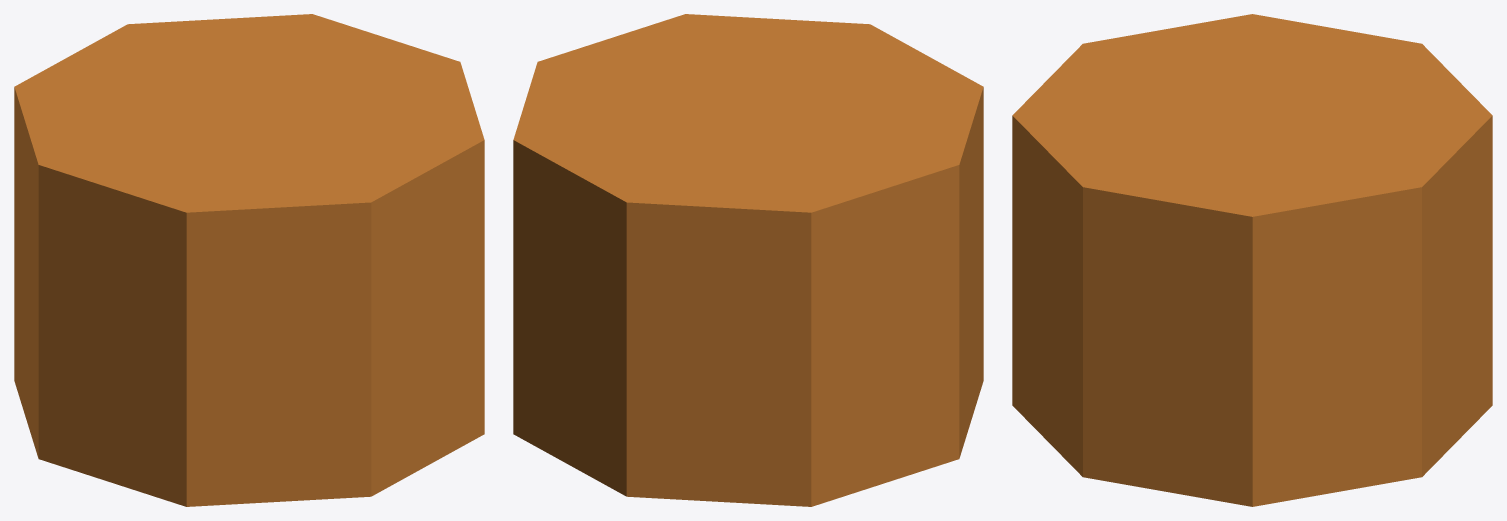
The model's file is icon_food.obj.
3 views of the same model, side by side, from view 1: azimuth 30°, elevation 25°; view 2: azimuth 150°, elevation 25°; view 3: azimuth 270°, elevation 25° (orthographic).
Bounding box in the file's own units: 0.12 × 0.08 × 0.12.
